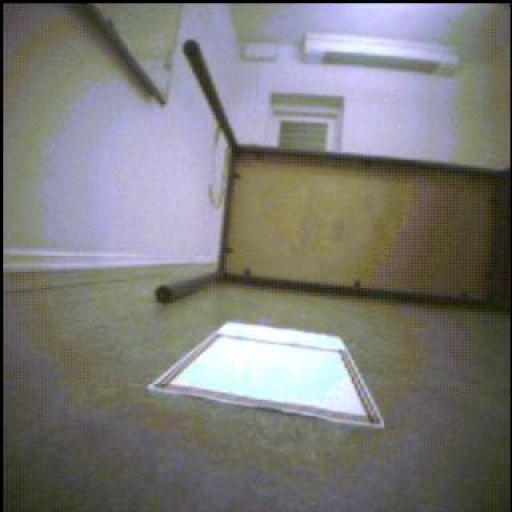Pad: (150, 323, 385, 428)
